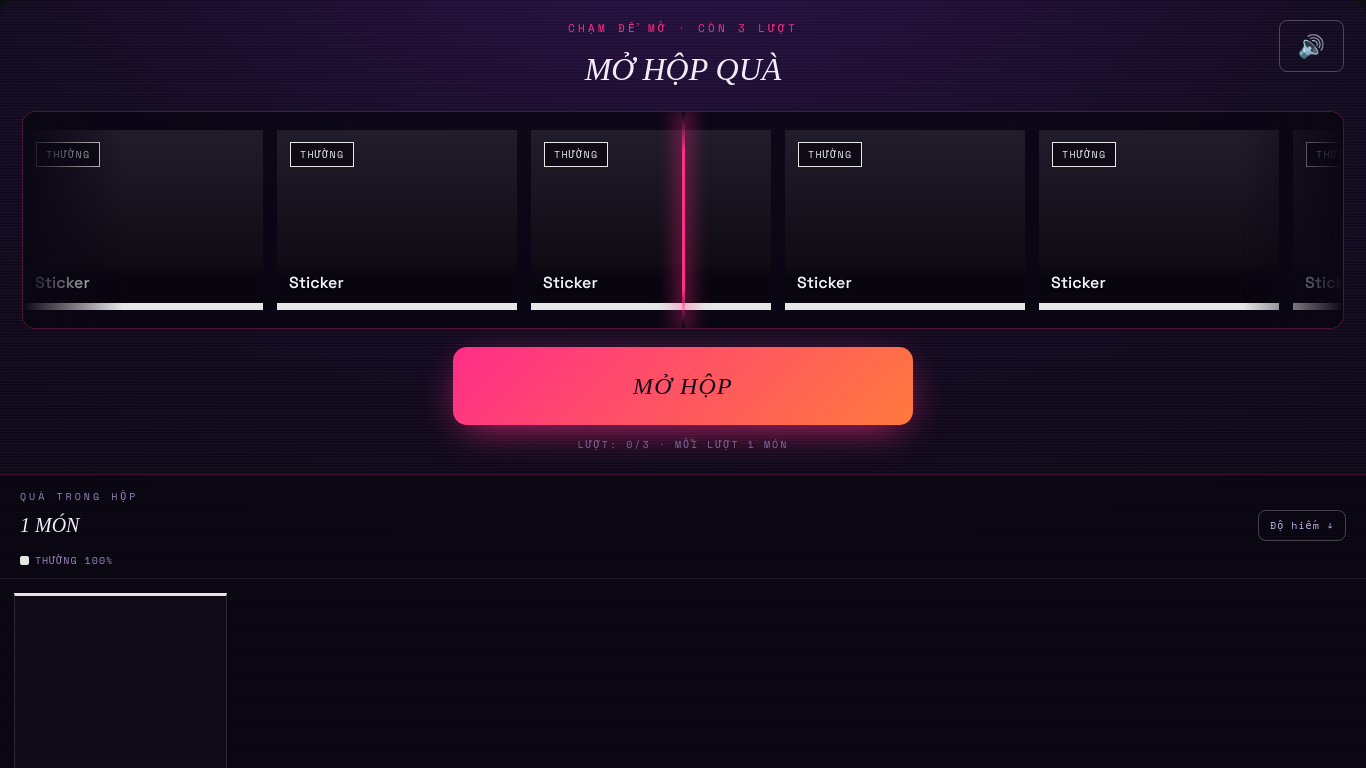
Test case: GachaMachine › shows the draw response's own (post-decrement) stock count, not the stale page-load snapshot
What coordinates should you click on to do the following:
click the button "Mở hộp"
I would click on:
 (683, 386)
Its box is [453,346,913,424].
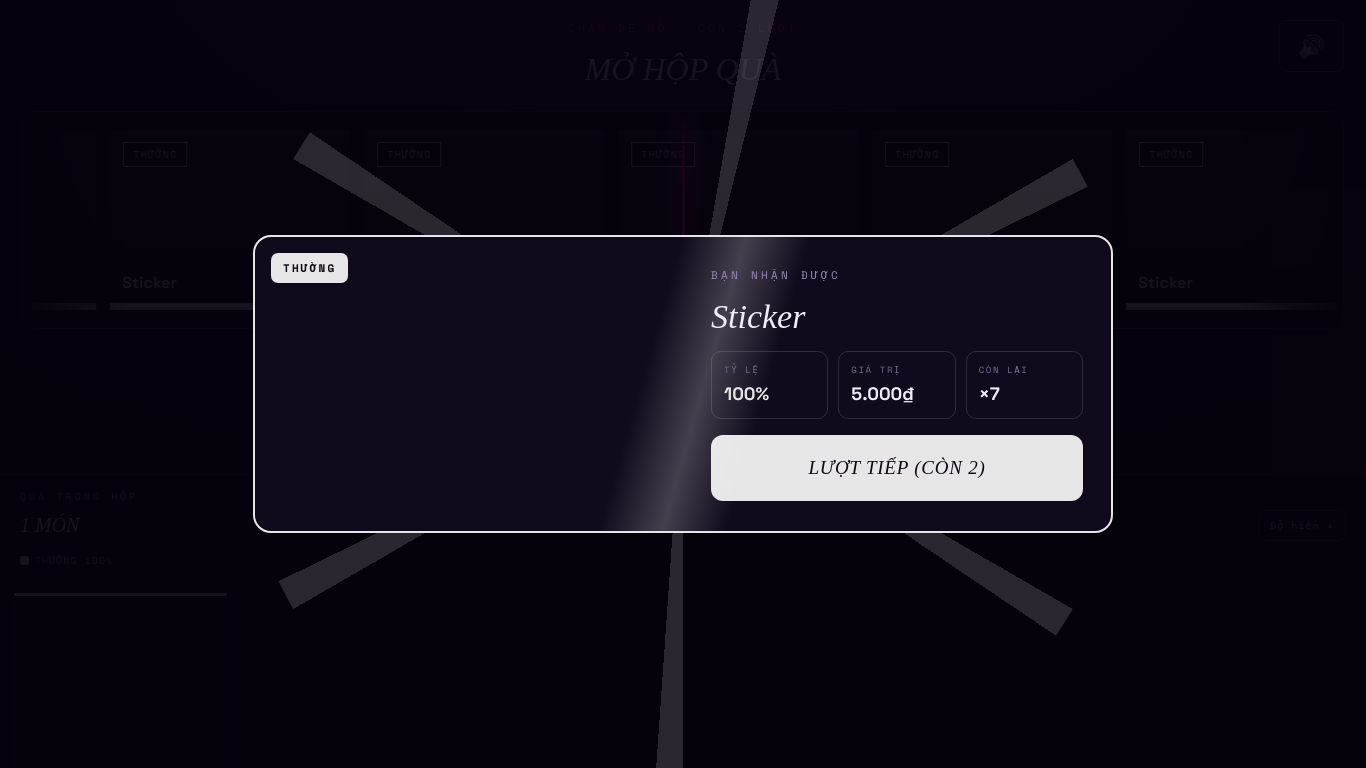
Now the dialog shows "×7", box [979,382,1000,405]
